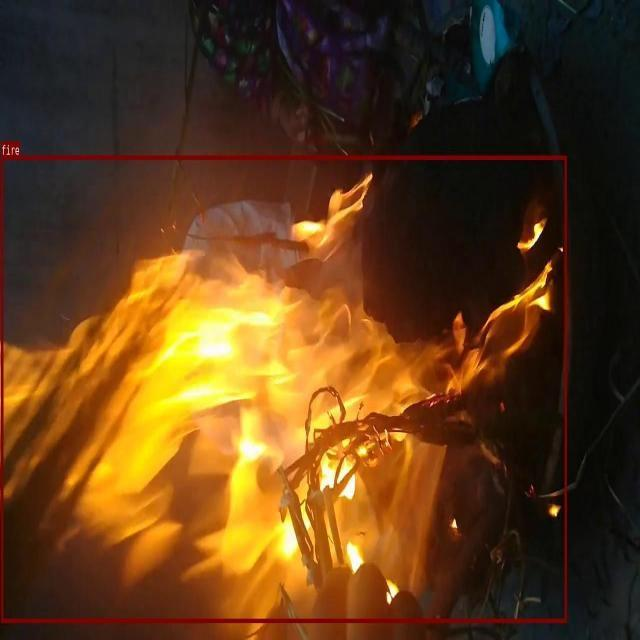fire: (1, 155, 567, 621)
